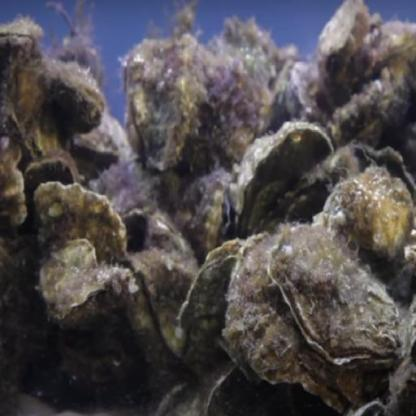3: (267, 225, 402, 369), (183, 236, 239, 376), (320, 144, 416, 207), (193, 186, 235, 254), (1, 23, 43, 56)
Oyster-Closed: (231, 232, 397, 404), (187, 64, 261, 174), (37, 184, 129, 271), (130, 245, 198, 355), (38, 236, 101, 319), (351, 16, 416, 90), (19, 160, 75, 238)
Oyster-Open: (123, 35, 185, 174), (321, 173, 414, 260), (46, 60, 106, 139), (320, 4, 371, 75), (0, 139, 25, 237)
